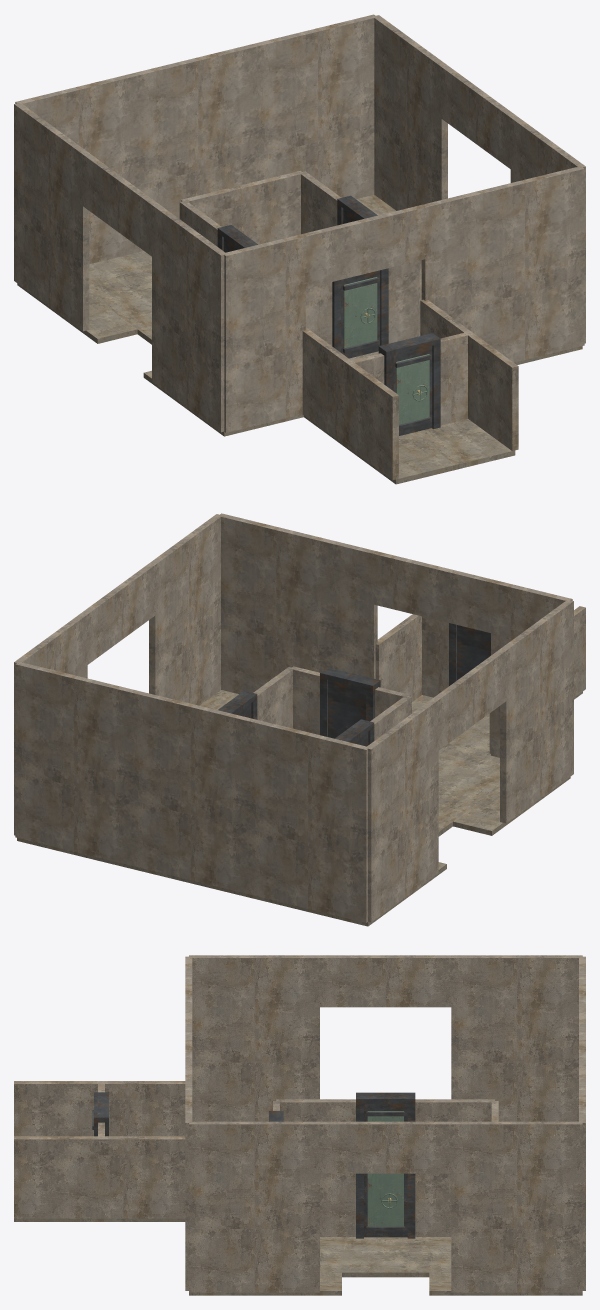
File: silo-blast-lock.gltf
The picture shows the model from 3 angles, top to bottom: view 1: azimuth 30°, elevation 25°; view 2: azimuth 150°, elevation 25°; view 3: azimuth 270°, elevation 25°; orthographic projection. The views are drawn at different scales.
Visible parts, largest first — view 1: blast-lock-wall-17-concrete-1, blast-lock-wall-17-concrete-2, blast-lock-floor-17-floor-0, blast-lock-door-frame-17-steel-3, blast-lock-door-17-seafoam-11, blast-lock-door-17-seafoam-14, blast-lock-door-17-steel-10, blast-lock-door-17-steel-13; view 2: blast-lock-wall-17-concrete-1, blast-lock-wall-17-concrete-2, blast-lock-floor-17-floor-0, blast-lock-door-frame-17-steel-3, blast-lock-door-17-steel-10, blast-lock-door-17-steel-13; view 3: blast-lock-wall-17-concrete-1, blast-lock-wall-17-concrete-2, blast-lock-floor-17-floor-0, blast-lock-door-frame-17-steel-3, blast-lock-door-17-seafoam-8, blast-lock-door-17-steel-7, blast-lock-door-17-steel-4.
Boxes of the visible parts, left/top/right/bottom form: blast-lock-wall-17-concrete-1: left=14, top=14, right=585, bottom=432; blast-lock-wall-17-concrete-2: left=179, top=170, right=518, bottom=479; blast-lock-floor-17-floor-0: left=17, top=194, right=582, bottom=484; blast-lock-door-frame-17-steel-3: left=217, top=195, right=440, bottom=429; blast-lock-door-17-seafoam-11: left=343, top=277, right=377, bottom=348; blast-lock-door-17-seafoam-14: left=396, top=354, right=429, bottom=424; blast-lock-door-17-steel-10: left=341, top=270, right=380, bottom=358; blast-lock-door-17-steel-13: left=393, top=346, right=432, bottom=435; blast-lock-wall-17-concrete-1: left=14, top=513, right=573, bottom=922; blast-lock-wall-17-concrete-2: left=253, top=606, right=585, bottom=753; blast-lock-floor-17-floor-0: left=17, top=690, right=582, bottom=926; blast-lock-door-frame-17-steel-3: left=218, top=623, right=456, bottom=744; blast-lock-door-17-steel-10: left=328, top=680, right=365, bottom=738; blast-lock-door-17-steel-13: left=457, top=625, right=490, bottom=680; blast-lock-wall-17-concrete-1: left=185, top=955, right=585, bottom=1292; blast-lock-wall-17-concrete-2: left=14, top=1081, right=498, bottom=1236; blast-lock-floor-17-floor-0: left=14, top=1218, right=582, bottom=1295; blast-lock-door-frame-17-steel-3: left=94, top=1092, right=415, bottom=1238; blast-lock-door-17-seafoam-8: left=367, top=1173, right=403, bottom=1226; blast-lock-door-17-steel-7: left=364, top=1173, right=407, bottom=1237; blast-lock-door-17-steel-4: left=364, top=1103, right=407, bottom=1121.
Bounding box in the file's own units: 9.16 × 4.36 × 13.08.
5 materials, 4 textured.
